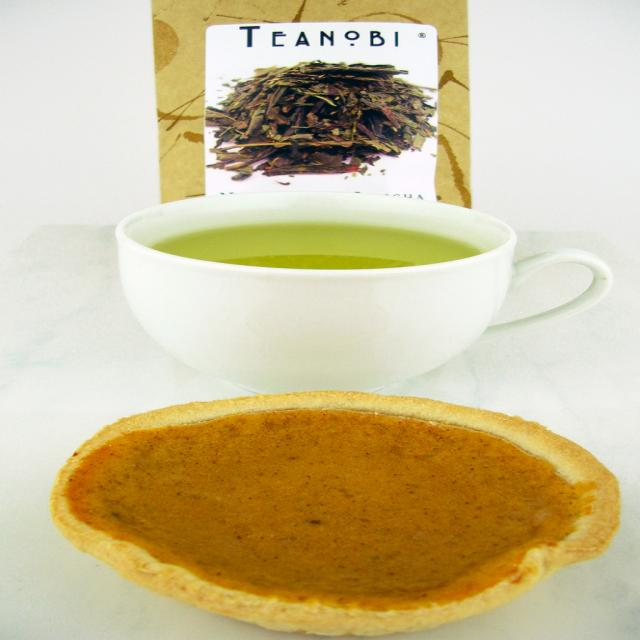Tea: (144, 222, 481, 272)
